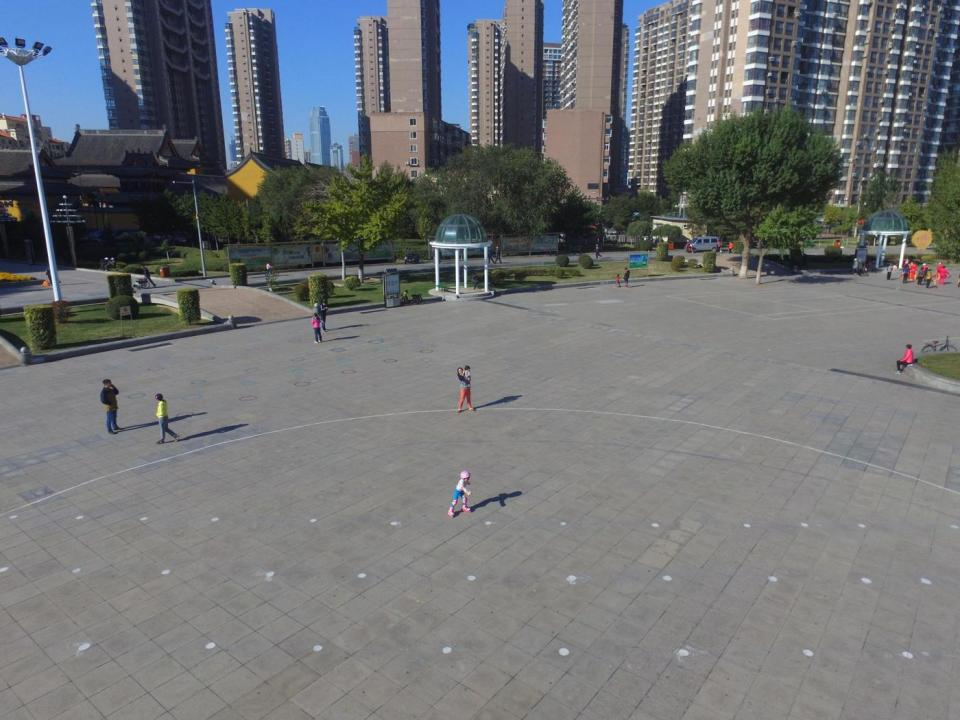van: (686, 237, 721, 253)
